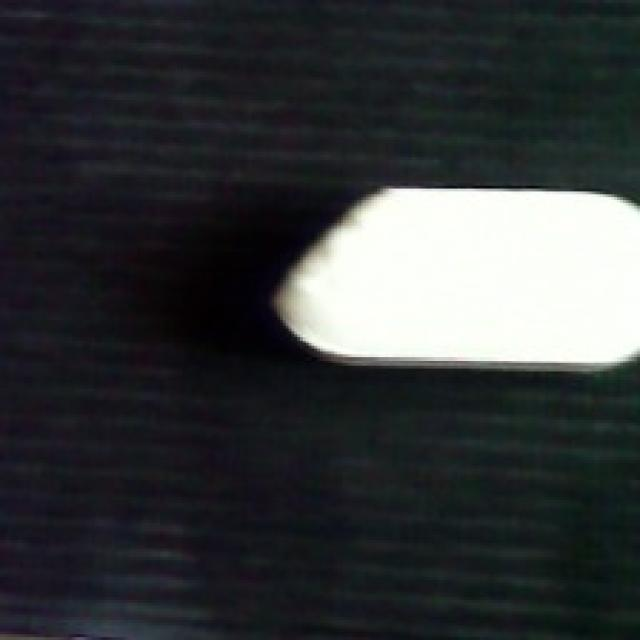defected: (265, 174, 640, 373)
